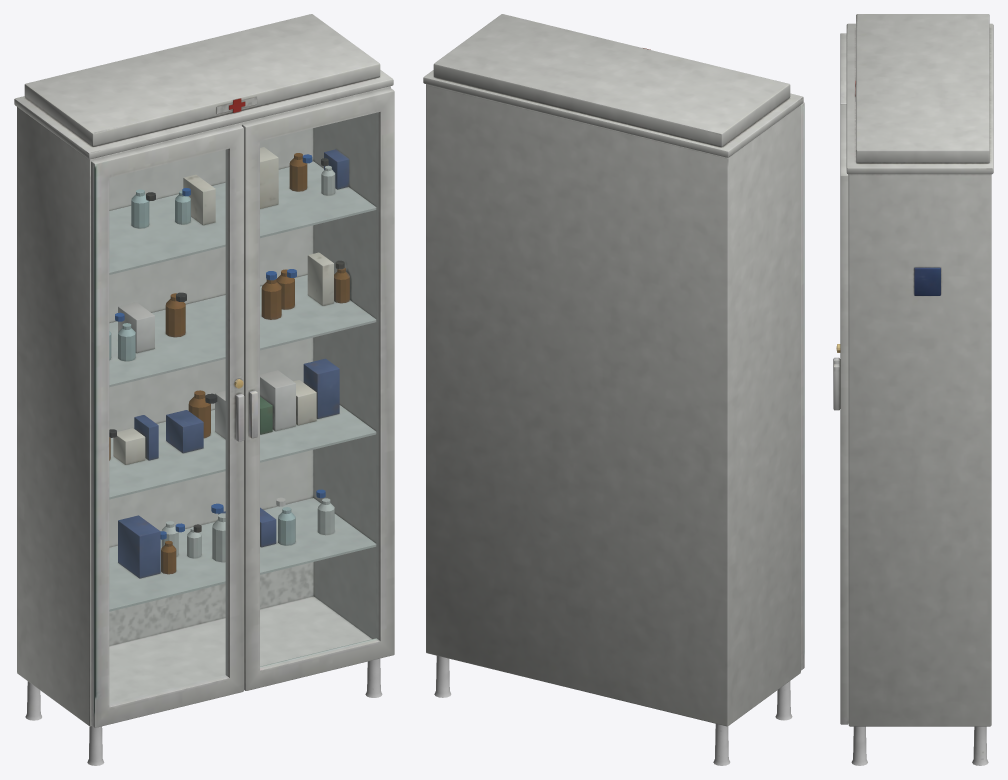
File: armario_remedios.glb
3 renders of one model, left to right at view 1: azimuth 30°, elevation 25°; view 2: azimuth 150°, elevation 25°; view 3: azimuth 270°, elevation 25°, orthographic. The views are drawn at different scales.
Parts seen in each view (by area): view 1: armario, vidro_porta_dir, vidro_porta_esq, porta_esq, porta_dir; view 2: armario, porta_esq; view 3: armario, porta_dir, porta_esq.
Boxes of the visible parts, bbox=[...] form: armario: bbox=[14, 14, 393, 765]; vidro_porta_dir: bbox=[260, 113, 378, 668]; vidro_porta_esq: bbox=[110, 149, 227, 704]; porta_esq: bbox=[91, 125, 244, 727]; porta_dir: bbox=[242, 88, 394, 690]; armario: bbox=[423, 14, 803, 765]; porta_esq: bbox=[801, 102, 804, 670]; armario: bbox=[846, 14, 993, 765]; porta_dir: bbox=[833, 104, 848, 724]; porta_esq: bbox=[833, 33, 846, 364].
Bounding box in the file's own units: 0.9133 × 1.8 × 0.425.
Materials: 4 (2 with a texture image).
